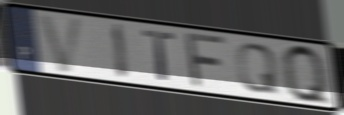F: (184, 31, 230, 90)
I: (111, 21, 132, 83)
Q: (279, 41, 334, 109), (234, 41, 281, 96)
T: (139, 28, 178, 84)
V: (36, 12, 87, 75)
